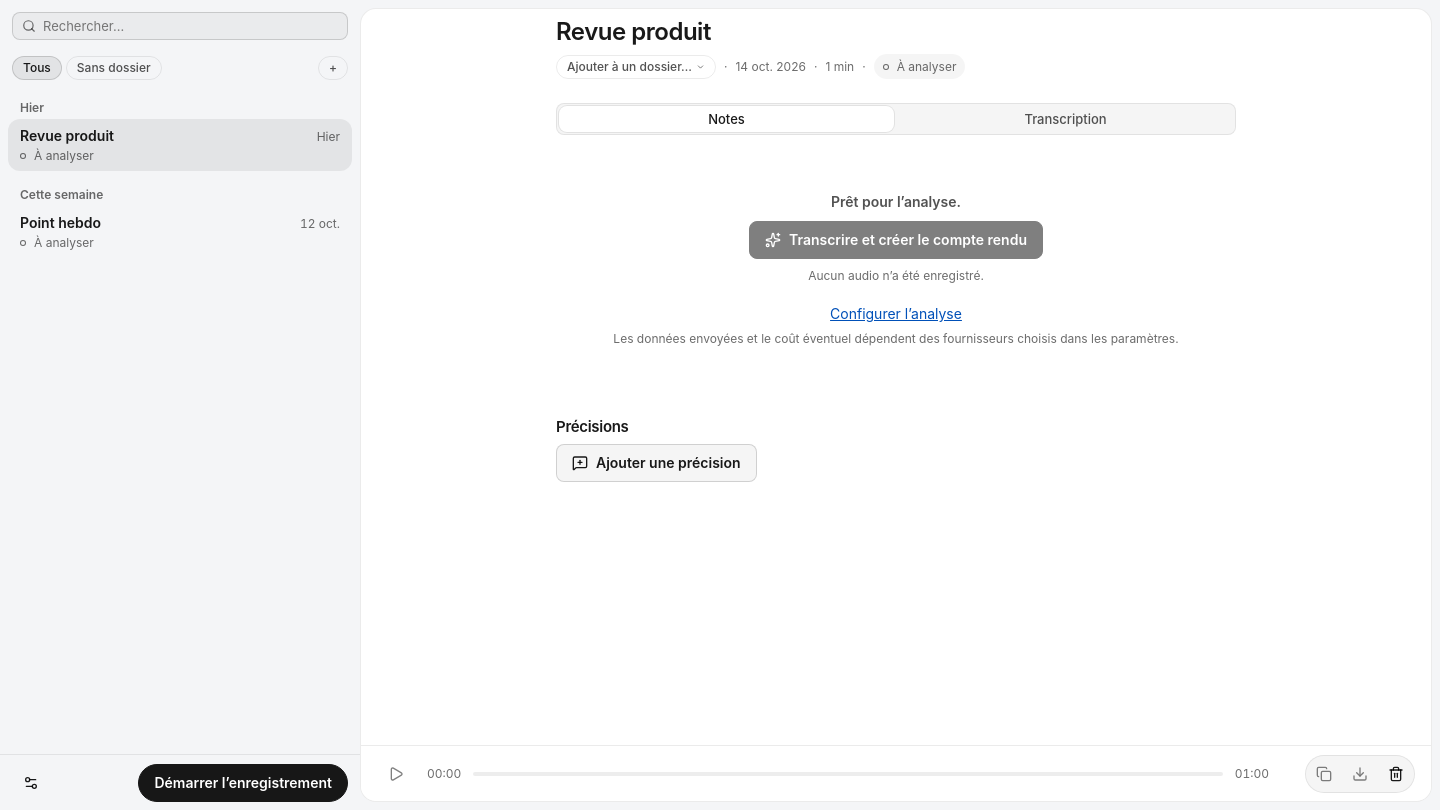
Meeting list and card › falls back to the most recent meeting when the selected one is deleted
expect the heading "Revue produit" is shown: met, box top-left (556, 17), bottom-right (711, 46)
Click the button named "Supprimer la réunion" at (1396, 774), box top-left (1380, 758), bottom-right (1412, 790)
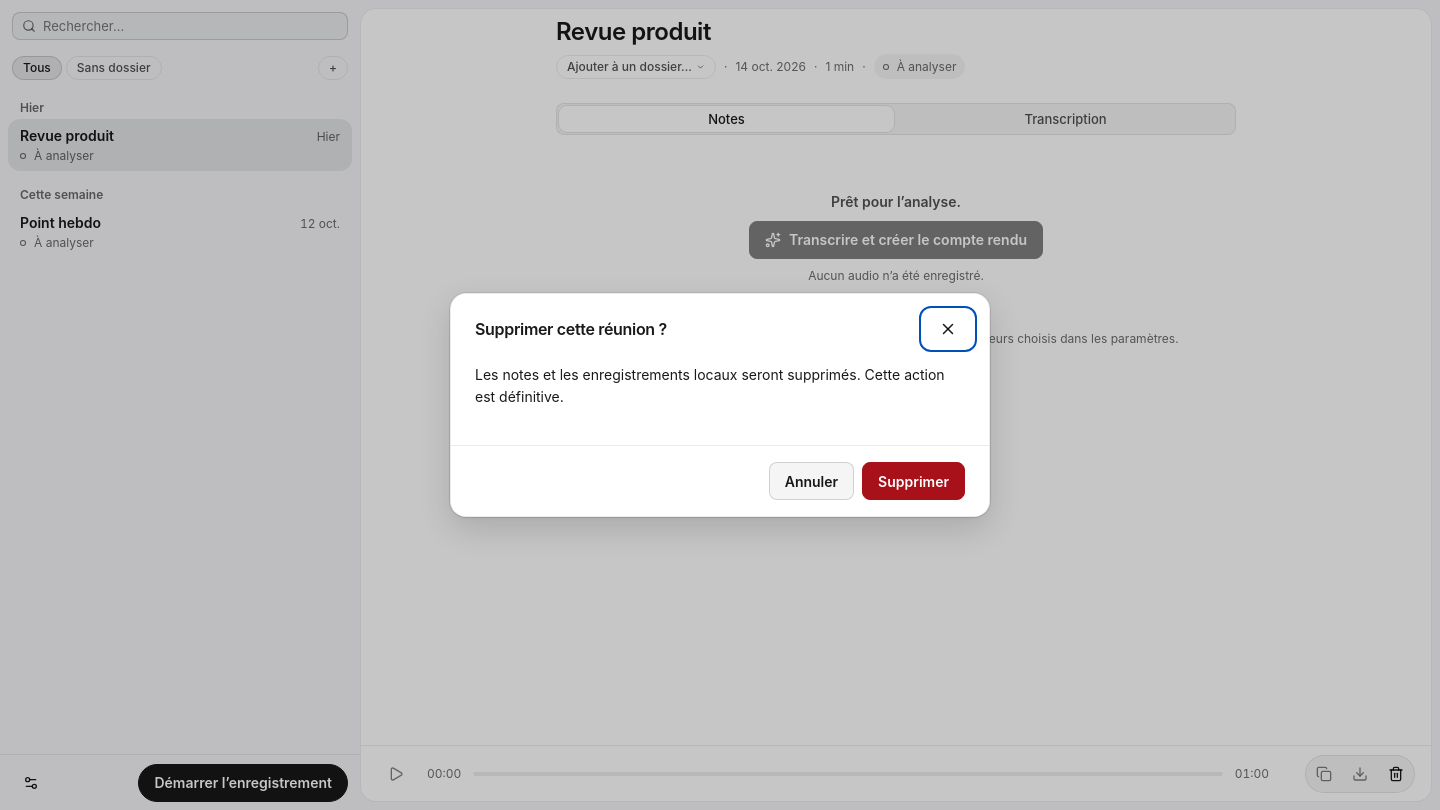
Click the button "Supprimer" at (914, 481), box top-left (862, 462), bottom-right (965, 500)
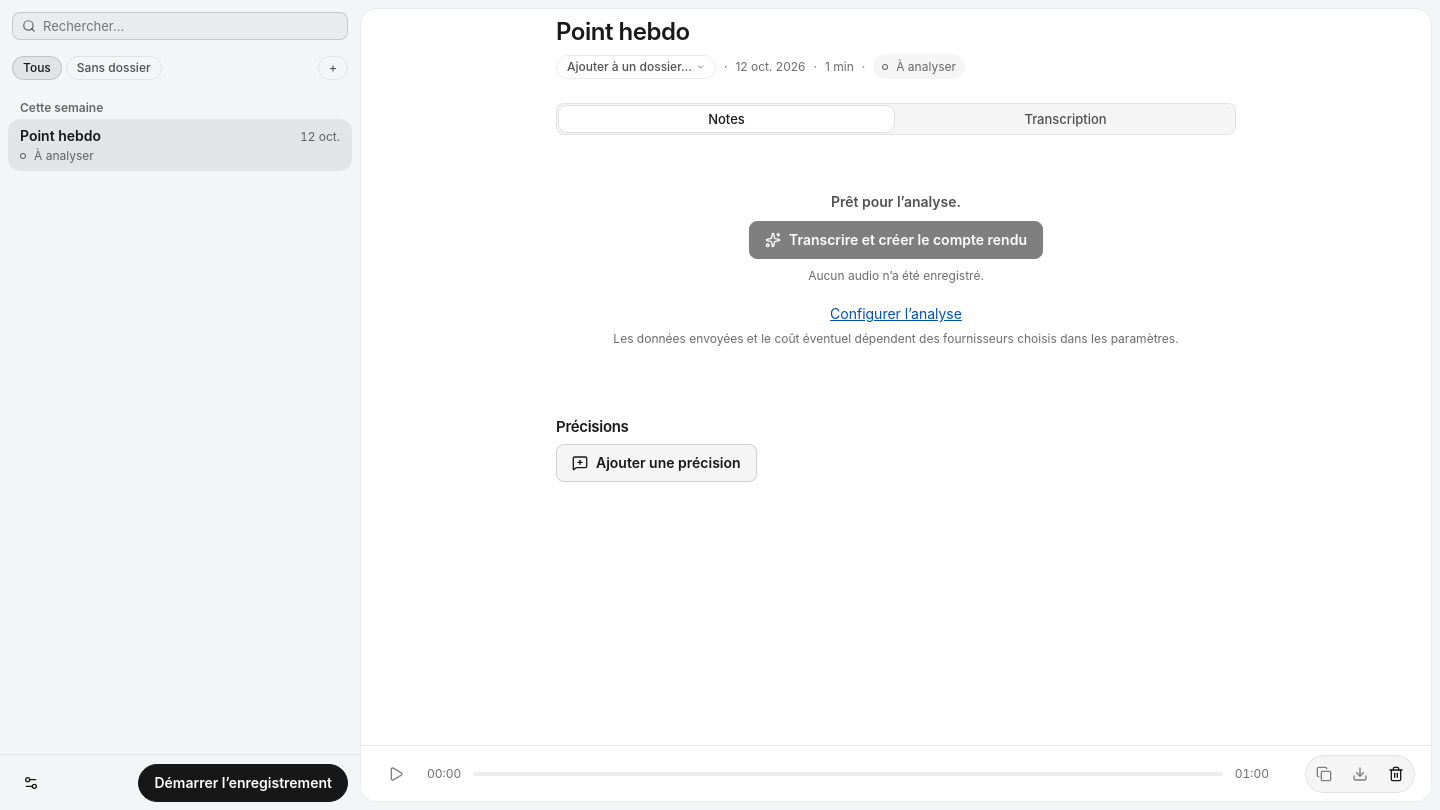
expect the heading "Point hebdo" is shown: met, box top-left (556, 17), bottom-right (690, 46)
expect the option "Revue produit" is gone: met
